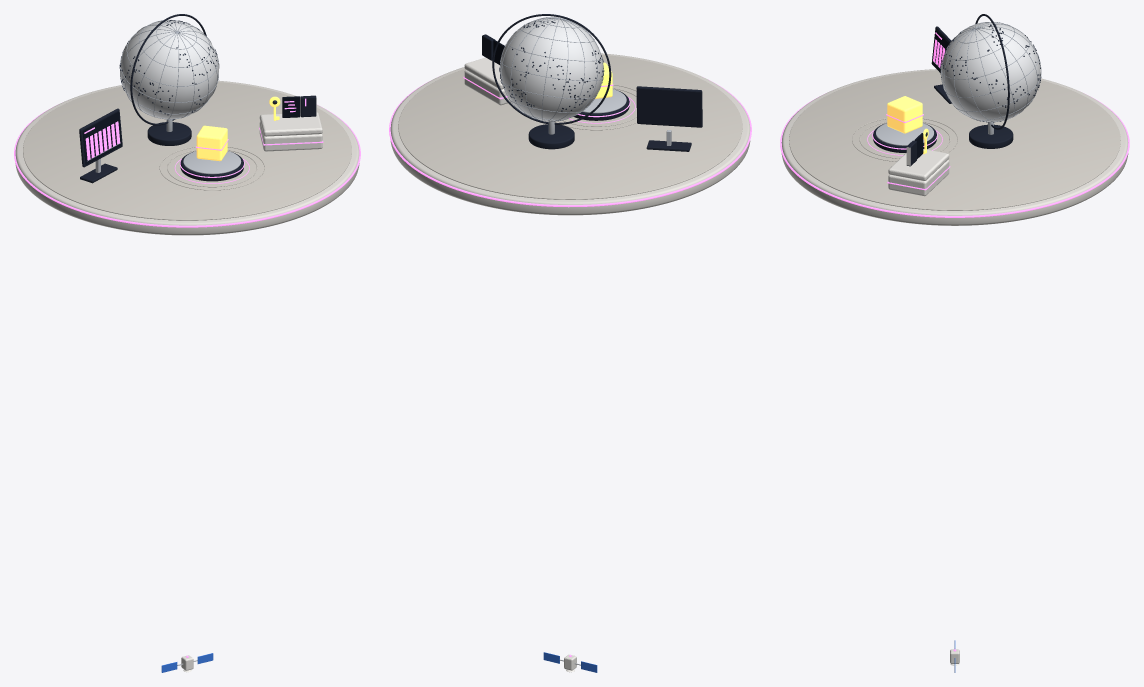
File: launch-world.glb
3 renders of one model, left to right at view 1: azimuth 30°, elevation 25°; view 2: azimuth 150°, elevation 25°; view 3: azimuth 270°, elevation 25°, orthographic. The views are drawn at different scales.
Visible parts, largest first — view 1: Plinth top, Globe body, Plinth, Globe grid, Launch inlay, Lid shell, Product body, Case base, An glass, Dais plate, Globe pedestal, Dais base; view 2: Plinth top, Globe body, Plinth, An frame, Globe grid, Launch inlay, Globe pedestal, Globe cradle, Lid shell, Case base, Dais plate; view 3: Plinth top, Globe body, Plinth, Globe grid, Launch inlay, Lid shell, Product body, Case base, Globe pedestal, Dais plate.
Part boxes in pixels (x1=…): Plinth top: x1=23, y1=82, x2=351, y2=220; Globe body: x1=120, y1=20, x2=218, y2=118; Plinth: x1=15, y1=80, x2=359, y2=235; Globe grid: x1=120, y1=20, x2=219, y2=119; Launch inlay: x1=14, y1=104, x2=360, y2=227; Lid shell: x1=259, y1=112, x2=322, y2=136; Product body: x1=196, y1=125, x2=227, y2=161; Case base: x1=259, y1=122, x2=322, y2=151; An glass: x1=82, y1=111, x2=121, y2=164; Dais plate: x1=183, y1=151, x2=241, y2=174; Globe pedestal: x1=147, y1=122, x2=191, y2=145; Dais base: x1=180, y1=151, x2=243, y2=181; Plinth top: x1=398, y1=55, x2=742, y2=199; Globe body: x1=500, y1=18, x2=603, y2=121; Plinth: x1=390, y1=53, x2=750, y2=215; An frame: x1=636, y1=86, x2=702, y2=127; Globe grid: x1=499, y1=17, x2=603, y2=121; Launch inlay: x1=389, y1=77, x2=751, y2=207; Globe pedestal: x1=528, y1=124, x2=574, y2=149; Globe cradle: x1=492, y1=14, x2=611, y2=124; Lid shell: x1=464, y1=57, x2=503, y2=89; Case base: x1=464, y1=70, x2=510, y2=105; Dais plate: x1=582, y1=89, x2=626, y2=113; Plinth top: x1=789, y1=70, x2=1120, y2=210; Globe body: x1=941, y1=22, x2=1040, y2=121; Plinth: x1=781, y1=69, x2=1128, y2=225; Globe grid: x1=940, y1=22, x2=1041, y2=122; Launch inlay: x1=780, y1=97, x2=1129, y2=217; Lid shell: x1=888, y1=149, x2=949, y2=180; Product body: x1=887, y1=96, x2=922, y2=133; Case base: x1=888, y1=160, x2=949, y2=196; Globe pedestal: x1=969, y1=124, x2=1013, y2=148; Dais plate: x1=876, y1=123, x2=934, y2=145.
Bounding box in the file's own units: 25.19 × 51.3 × 25.19.
